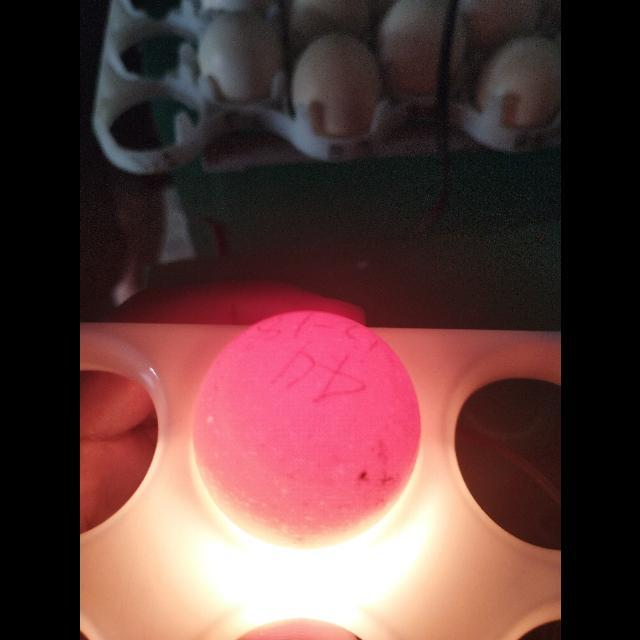Infertile: (185, 306, 425, 560)
